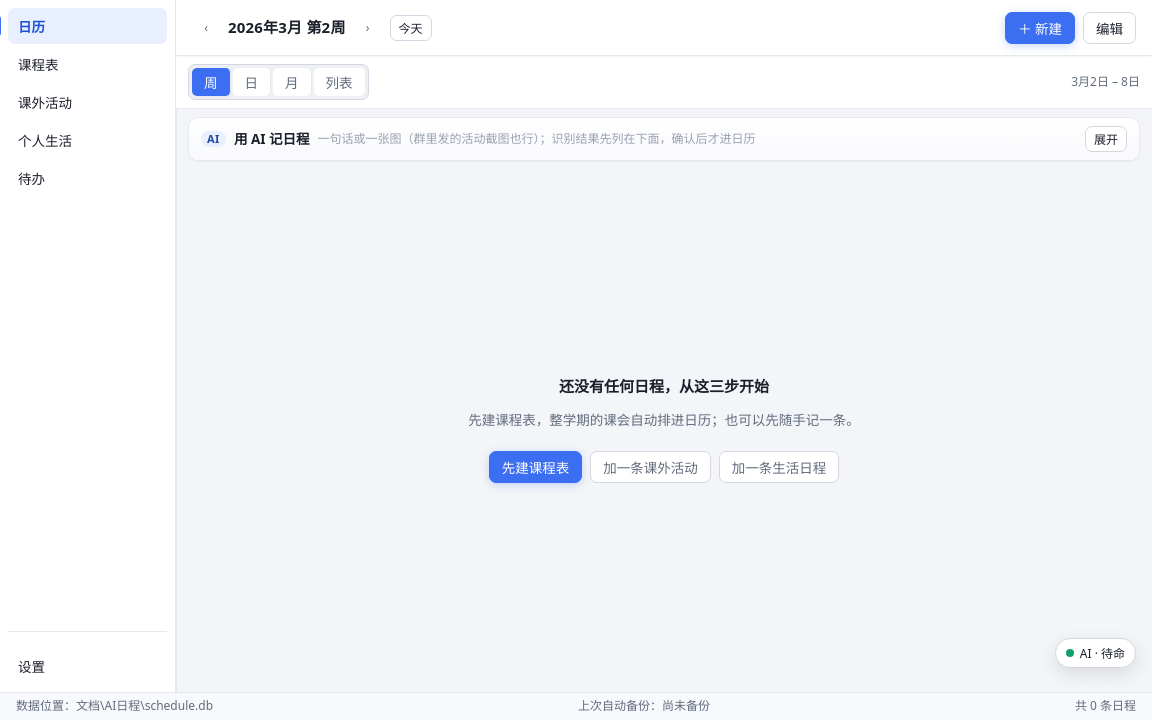
Test case: 课程表页接入数据 › 双击空格子打开新建课程弹窗，保存后出现在网格里
Click the button "课程表" at (88, 64), box [8, 46, 167, 82]
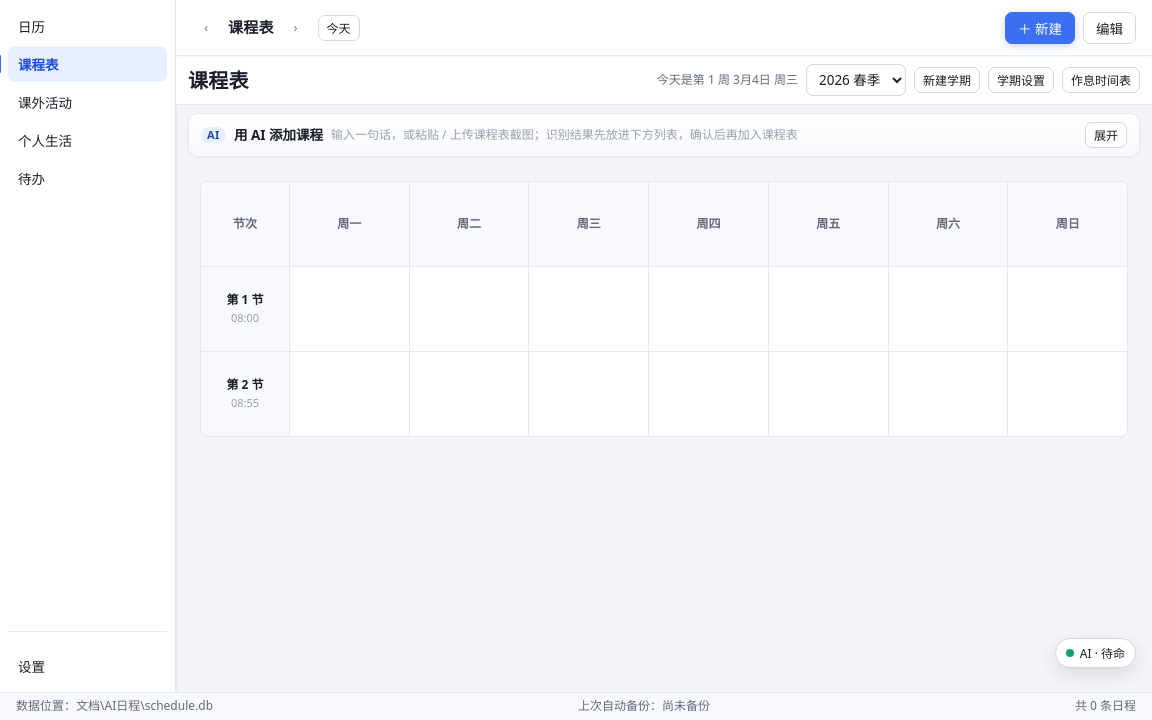
Result: the element with test id "course-table" is shown at [200, 181, 1128, 437]
Double-click the element with test id "cell-3-2" at (589, 394), box [529, 352, 648, 436]
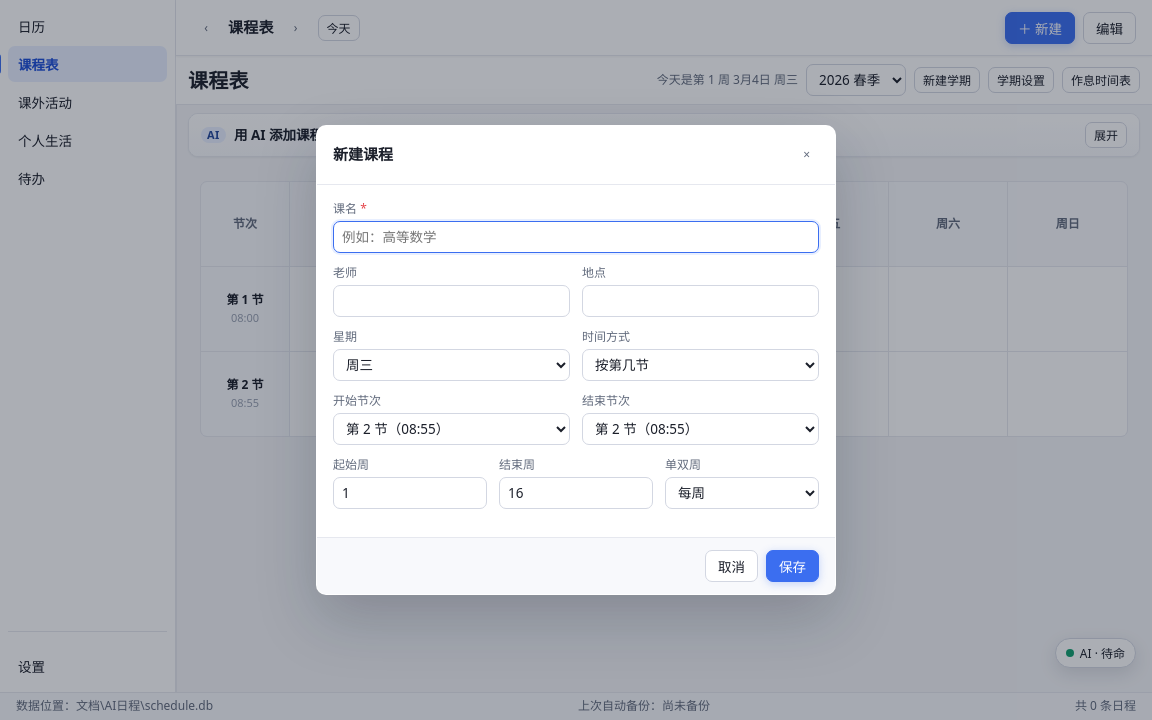
Type "大学物理" into the field labelled "课名" at (576, 237), box [333, 221, 819, 253]
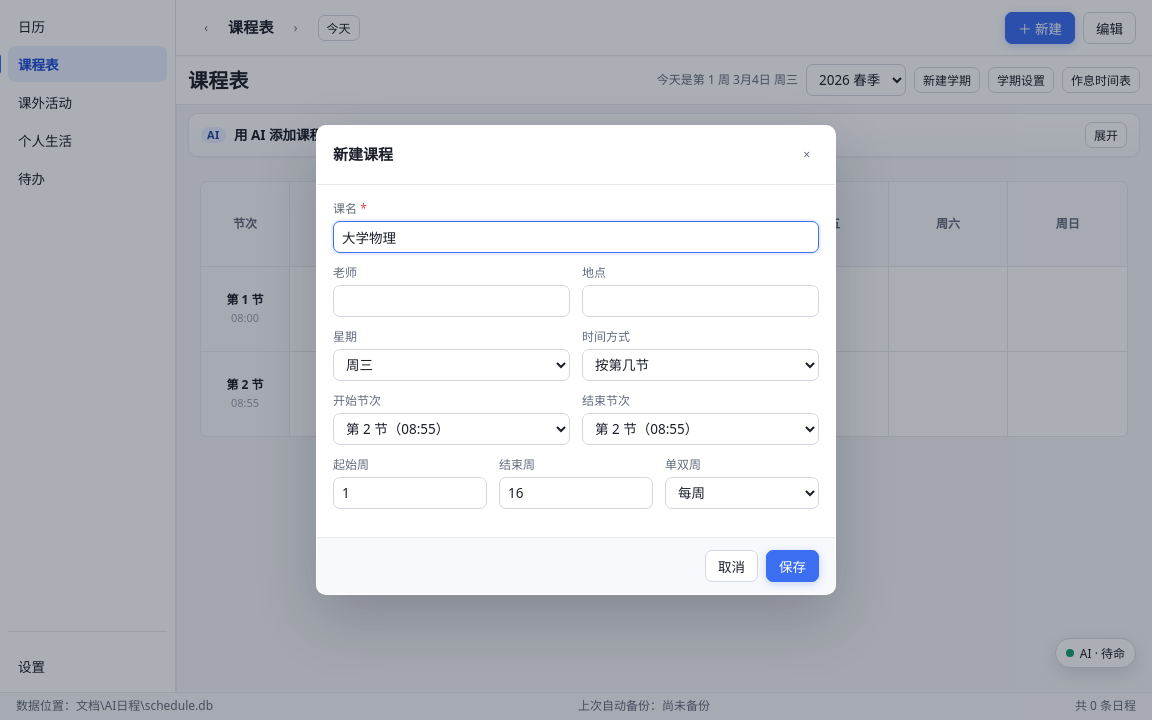
Click the button "保存" at (792, 566), box [766, 550, 819, 582]
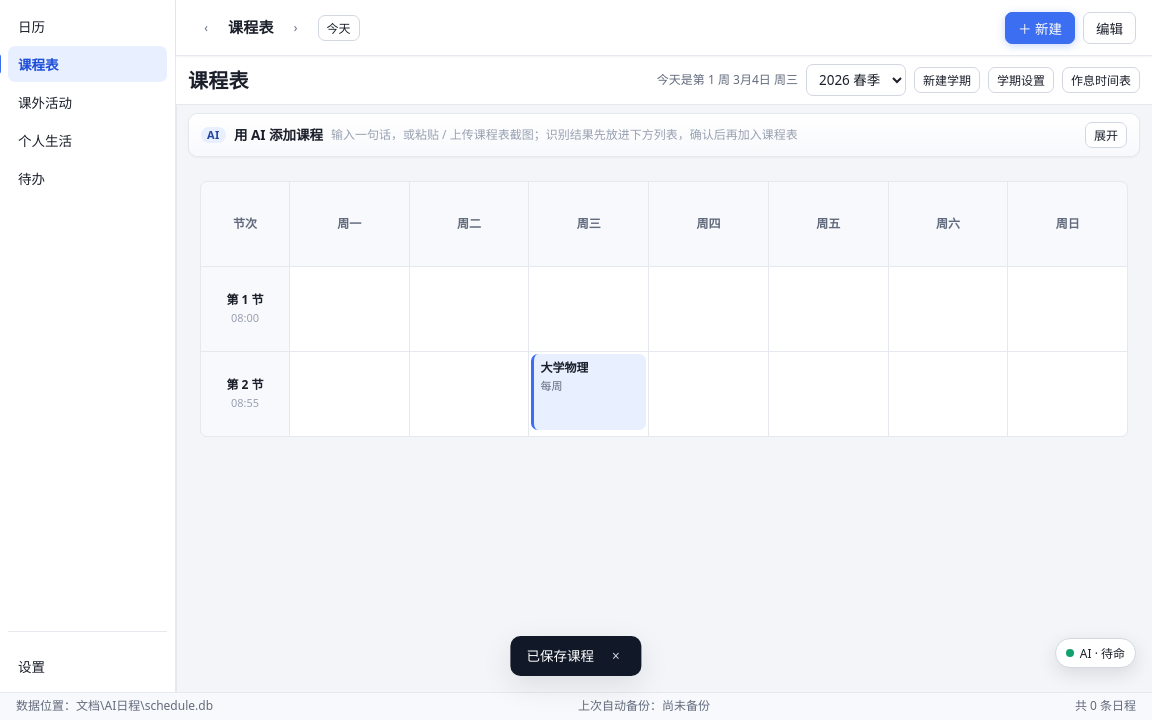
Result: the text "已保存课程" is shown at [526, 647, 594, 665]
